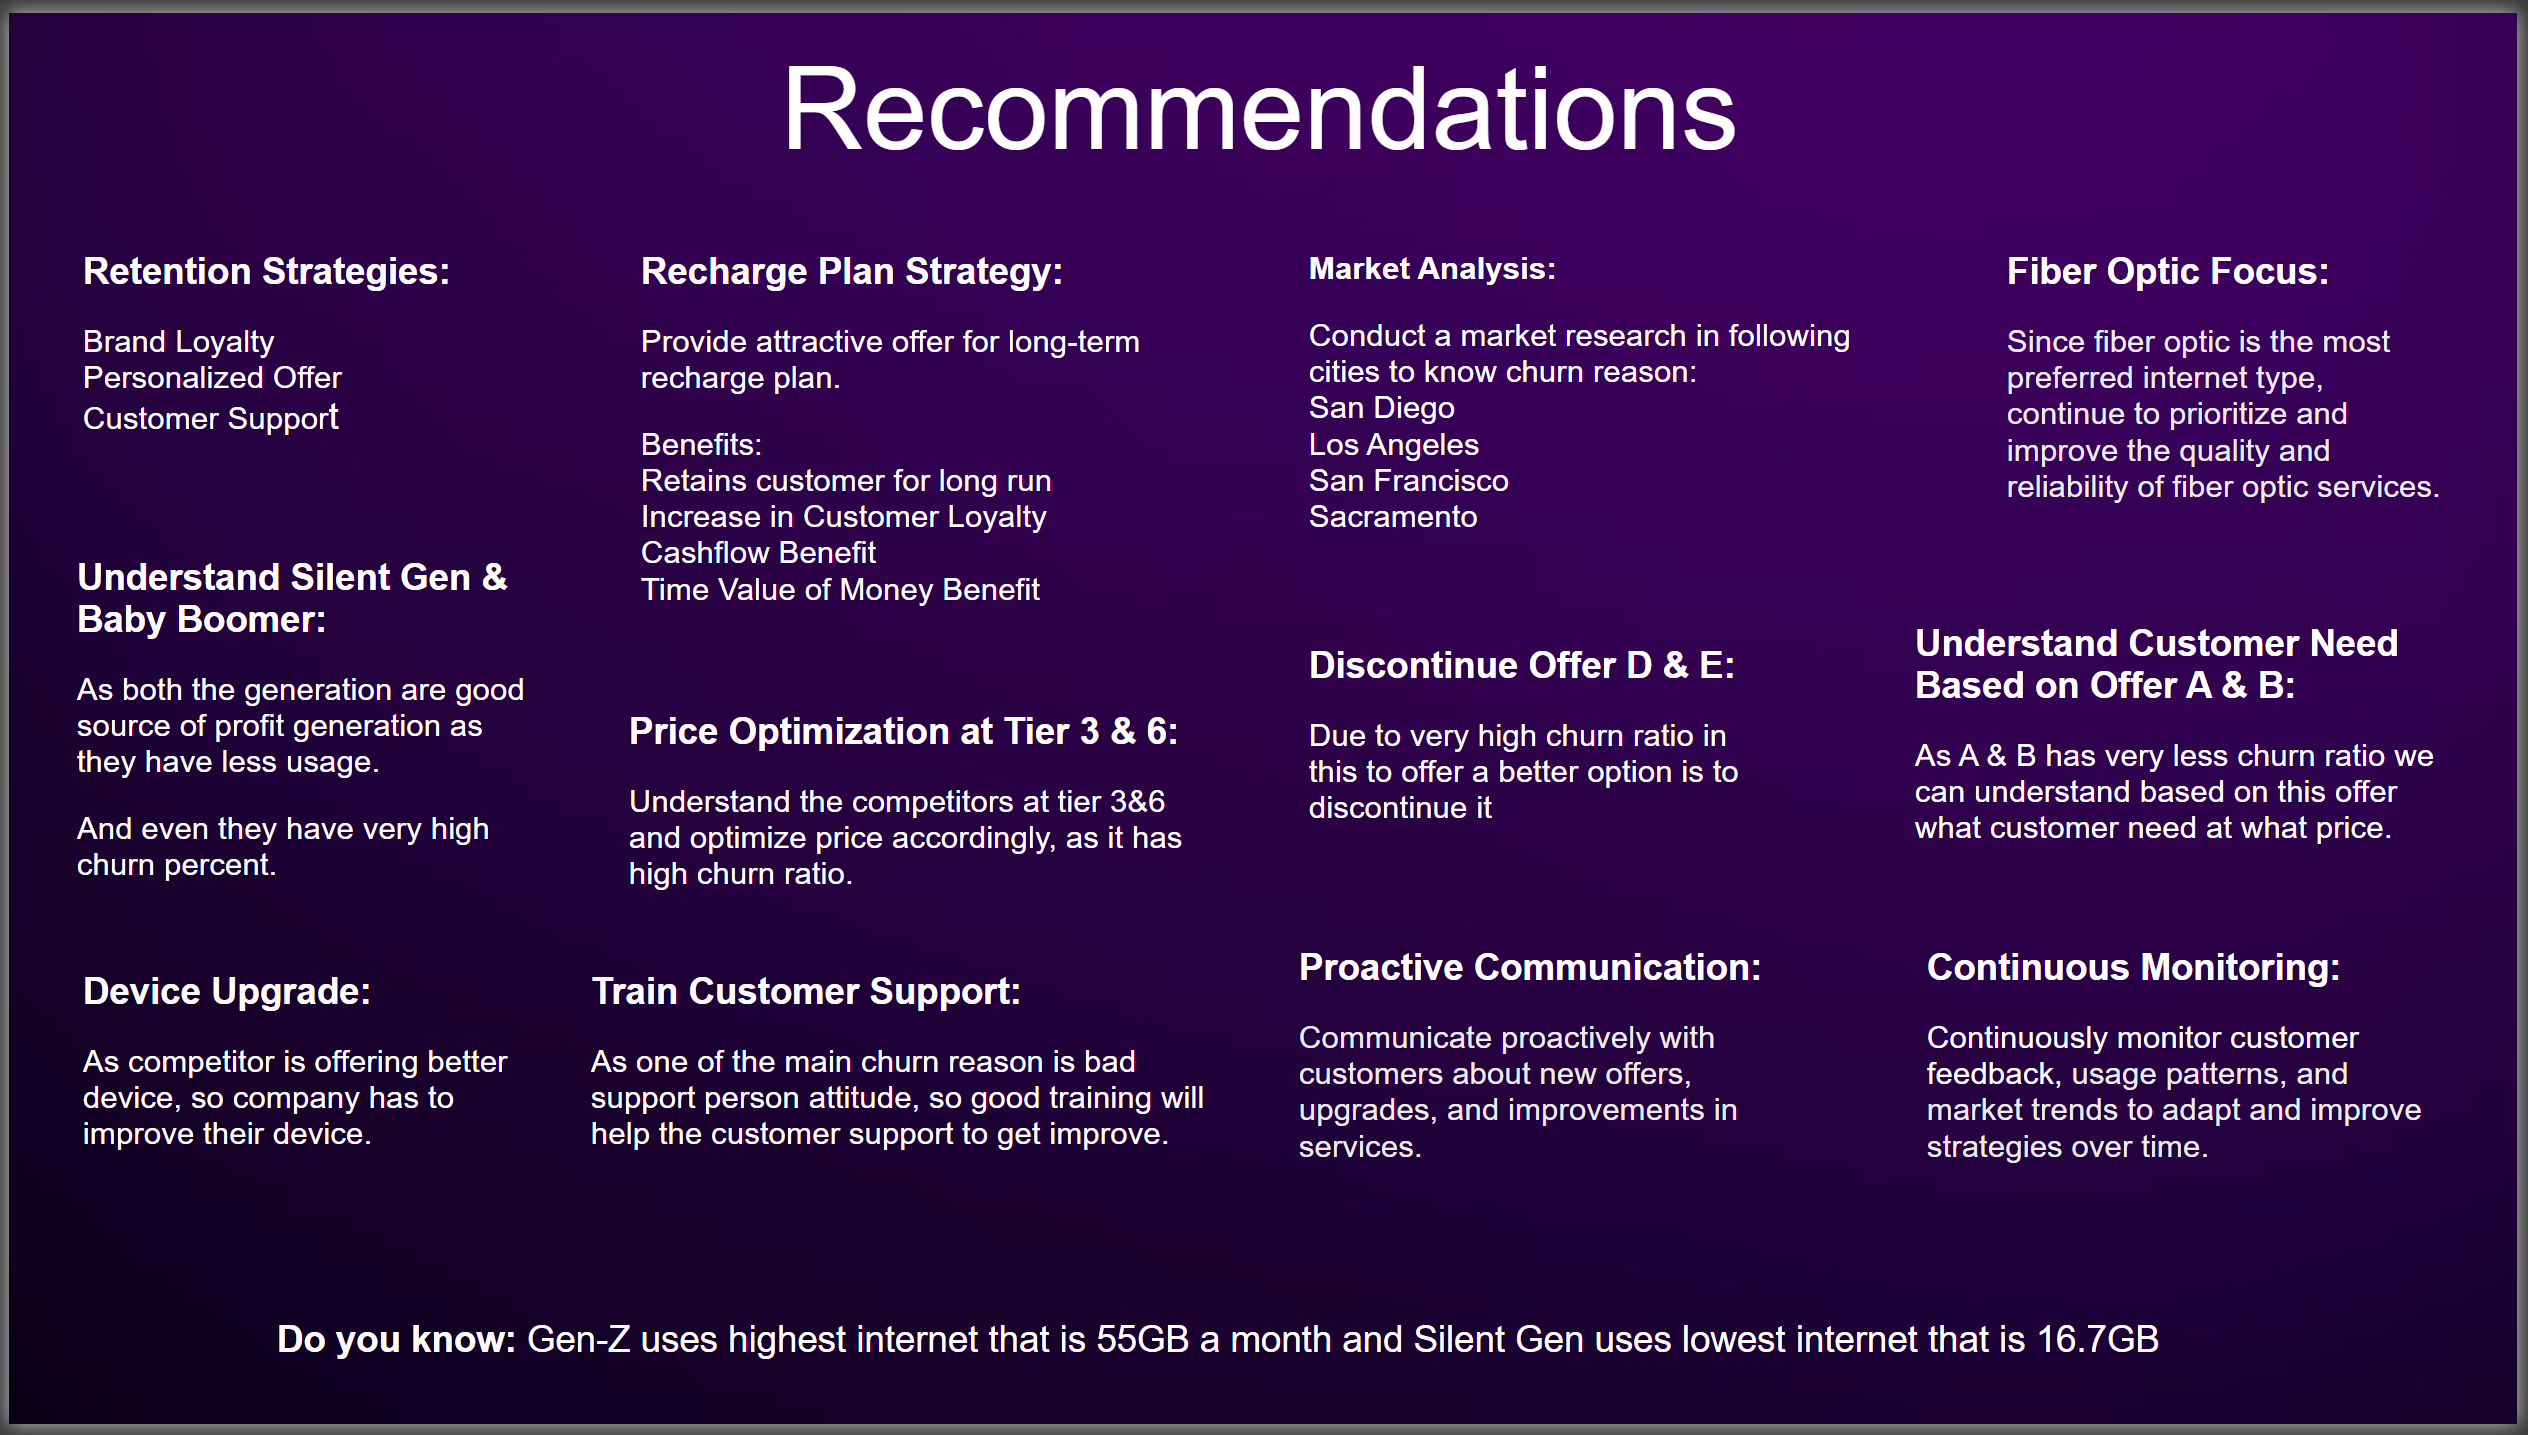

The page's visual inventory and layout, read from the dashboard file:
{"tool":"powerbi","page":{"name":"Recommendations","canvas":[1280,720],"ordinal":3},"visuals":[{"type":"textbox","box":[32.4,116.4,218.7,128],"z":0},{"type":"textbox","box":[317.6,116.7,288.4,200.9],"z":1000},{"type":"textbox","box":[657.8,116.4,309.5,176.6],"z":2000},{"type":"textbox","box":[1014.3,116.4,231.7,162],"z":3000},{"type":"textbox","box":[29.2,272.2,241.4,217.1],"z":4000},{"type":"textbox","box":[311.1,351.2,301.4,126.4],"z":5000},{"type":"textbox","box":[657.8,317.2,239.8,116.7],"z":6000},{"type":"textbox","box":[967.3,305.9,290,162],"z":7000},{"type":"textbox","box":[32.4,484.1,241.4,129.6],"z":8000},{"type":"textbox","box":[291.6,484.1,325.7,150.7],"z":9000},{"type":"textbox","box":[653,471.5,265.7,150.7],"z":10000},{"type":"textbox","box":[973.8,471.1,277.1,150.7],"z":11000},{"type":"textbox","box":[29.2,9.7,1216.8,98.8],"z":12000},{"type":"textbox","box":[131.2,661.1,1012.7,42.1],"z":13000}]}

Visuals, with their boxes in screenshot pixels (x1, y1, x2, y2), scaled from the page's 1280x720 canvas onto the 2528x1435 screenshot:
textbox: Rect(64, 232, 496, 487)
textbox: Rect(627, 233, 1197, 633)
textbox: Rect(1299, 232, 1910, 584)
textbox: Rect(2003, 232, 2461, 555)
textbox: Rect(58, 543, 534, 975)
textbox: Rect(614, 700, 1210, 952)
textbox: Rect(1299, 632, 1773, 865)
textbox: Rect(1910, 610, 2483, 933)
textbox: Rect(64, 965, 541, 1223)
textbox: Rect(576, 965, 1219, 1265)
textbox: Rect(1290, 940, 1814, 1240)
textbox: Rect(1923, 939, 2471, 1239)
textbox: Rect(58, 19, 2461, 216)
textbox: Rect(259, 1318, 2259, 1402)
